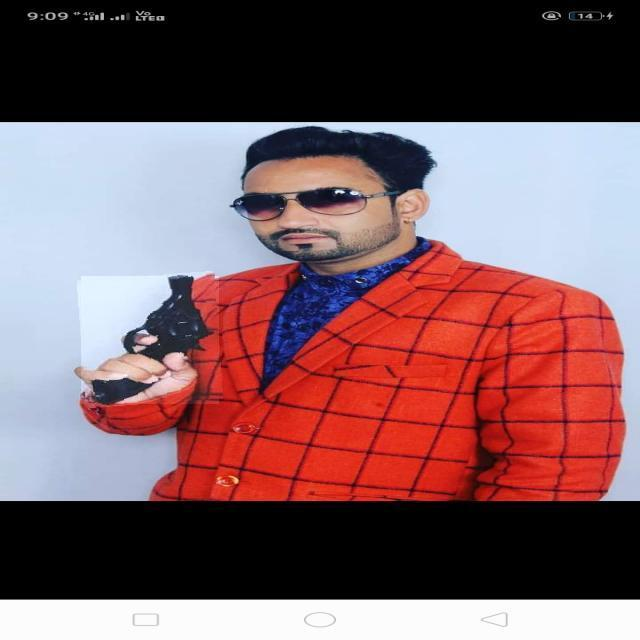handgun: (79, 274, 221, 406)
